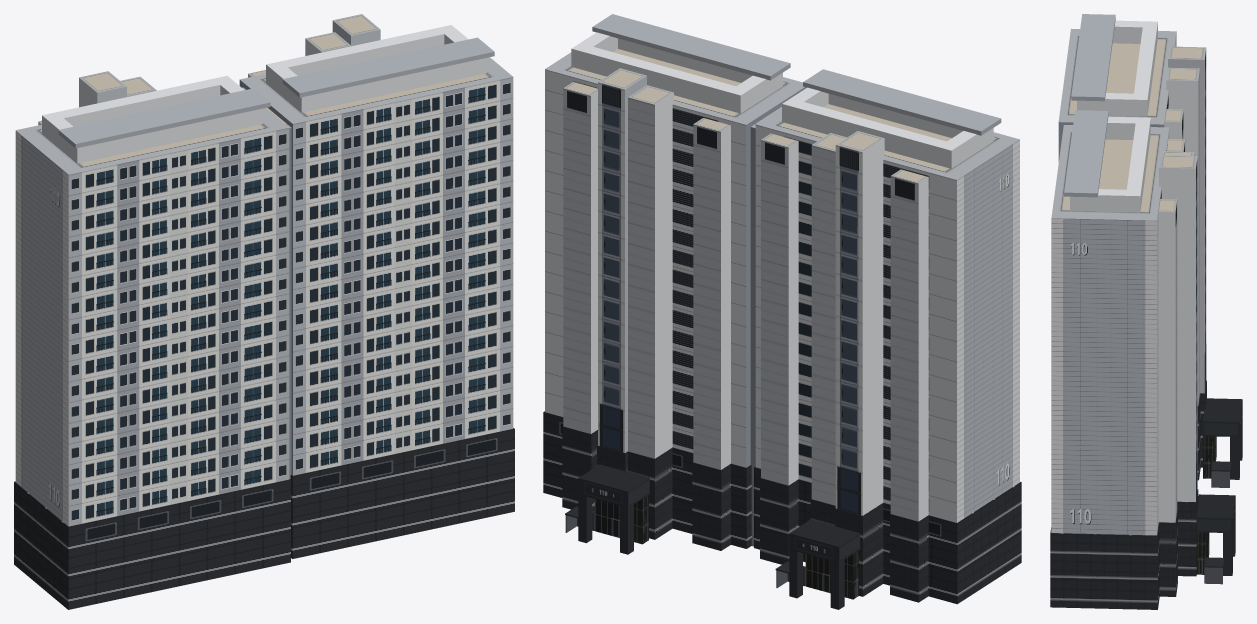
The model's file is 3D_place_110.glb.
3 views of the same model, side by side, from view 1: azimuth 30°, elevation 25°; view 2: azimuth 150°, elevation 25°; view 3: azimuth 270°, elevation 25° (orthographic). The views are drawn at different scales.
Visible parts, largest first — view 1: KumhoParkHills_110; view 2: KumhoParkHills_110, Dong110_Entrance_2_1, Dong110_Entrance_4_3; view 3: KumhoParkHills_110, Dong110_Entrance_4_3, Dong110_Entrance_2_1.
Boxes of the visible parts, x1,y1,x2,y2 form: KumhoParkHills_110: (14, 14, 514, 609); KumhoParkHills_110: (543, 14, 1021, 604); Dong110_Entrance_2_1: (565, 464, 649, 554); Dong110_Entrance_4_3: (775, 519, 860, 609); KumhoParkHills_110: (1050, 14, 1206, 609); Dong110_Entrance_4_3: (1202, 398, 1242, 487); Dong110_Entrance_2_1: (1196, 494, 1235, 584).
Bounding box in the file's own units: 56.95 × 56.38 × 24.
Materials: 67 (23 with a texture image).
